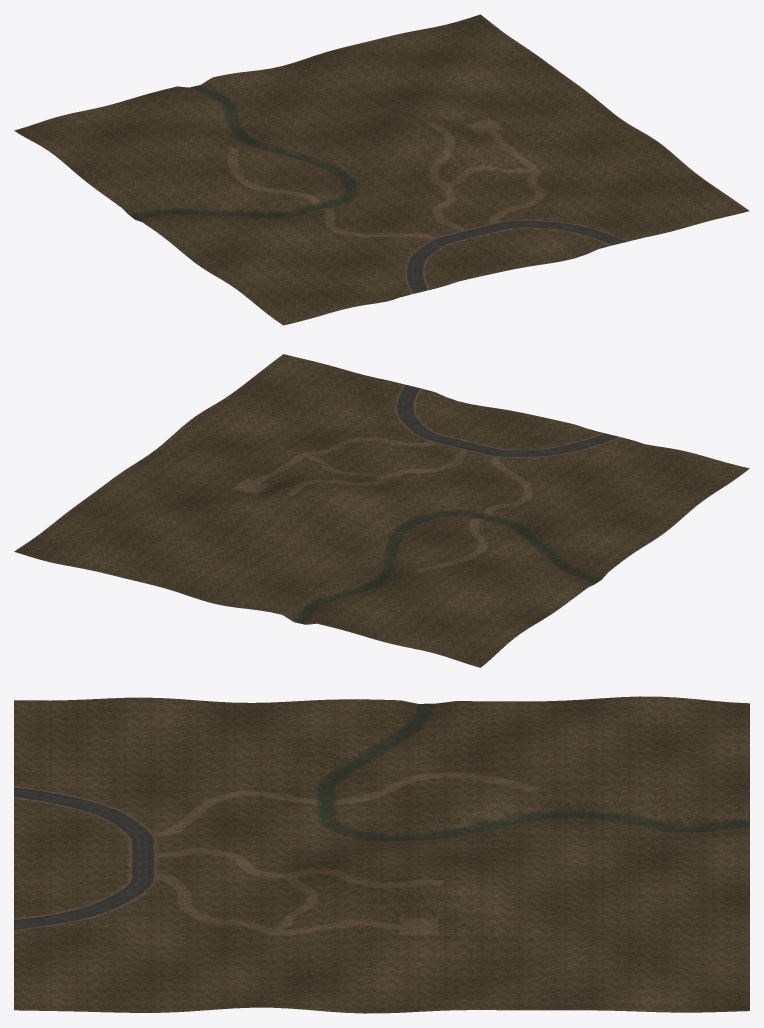
File: forest_terrain_200.glb
3 views of the same model, one above another, from view 1: azimuth 30°, elevation 25°; view 2: azimuth 150°, elevation 25°; view 3: azimuth 270°, elevation 25° (orthographic). The views are drawn at different scales.
Parts seen in each view (by area): view 1: Terrain_02_03-col, Terrain_03_01-col, Terrain_02_04-col, Terrain_03_02-col, Terrain_01_03-col, Terrain_01_02-col, Terrain_02_02-col, Terrain_02_01-col, Terrain_04_03-col, Terrain_01_04-col, Terrain_03_04-col, Terrain_04_02-col (+4 smaller); view 2: Terrain_03_03-col, Terrain_04_01-col, Terrain_04_03-col, Terrain_01_04-col, Terrain_02_02-col, Terrain_01_02-col, Terrain_04_04-col, Terrain_01_01-col, Terrain_02_01-col, Terrain_03_02-col, Terrain_01_03-col, Terrain_02_04-col (+4 smaller); view 3: Terrain_03_04-col, Terrain_04_02-col, Terrain_04_04-col, Terrain_01_01-col, Terrain_01_03-col, Terrain_02_01-col, Terrain_03_02-col, Terrain_02_04-col, Terrain_02_03-col, Terrain_01_04-col, Terrain_01_02-col, Terrain_02_02-col (+4 smaller).
Boxes of the visible parts, x1,y1,x2,y2 form: Terrain_02_03-col: (382,136,565,218); Terrain_03_01-col: (82,143,264,226); Terrain_02_04-col: (499,115,682,192); Terrain_03_02-col: (198,121,381,197); Terrain_01_03-col: (449,193,632,268); Terrain_01_02-col: (333,219,516,297); Terrain_02_02-col: (265,166,448,249); Terrain_02_01-col: (149,198,331,276); Terrain_04_03-col: (248,42,430,120); Terrain_01_04-col: (566,162,749,240); Terrain_03_04-col: (431,63,614,135); Terrain_04_02-col: (131,71,314,142); Terrain_03_03-col: (198,476,381,559); Terrain_04_01-col: (364,582,547,667); Terrain_04_03-col: (131,527,314,608); Terrain_01_04-col: (216,354,399,434); Terrain_02_02-col: (382,461,565,537); Terrain_01_02-col: (449,411,632,491); Terrain_04_04-col: (14,502,197,579); Terrain_01_01-col: (566,440,749,517); Terrain_02_01-col: (499,491,681,566); Terrain_03_02-col: (315,506,498,581); Terrain_01_03-col: (333,383,515,460); Terrain_02_04-col: (149,404,332,475); Terrain_03_04-col: (382,922,565,1013); Terrain_04_02-col: (566,768,749,858); Terrain_04_04-col: (566,928,749,1012); Terrain_01_01-col: (14,697,197,781); Terrain_01_03-col: (14,854,197,936); Terrain_02_01-col: (198,699,381,782); Terrain_03_02-col: (382,769,565,855); Terrain_02_04-col: (198,926,381,1013); Terrain_02_03-col: (198,850,381,936); Terrain_01_04-col: (14,933,197,1012); Terrain_01_02-col: (14,778,197,855); Terrain_02_02-col: (198,777,381,856).
Bounding box in the file's own units: 200 × 7.84 × 200.
3 materials, 3 textured.
